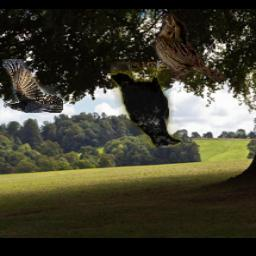Crow: (112, 62, 182, 148), (4, 59, 64, 113)
Sparrow: (155, 14, 227, 83)
